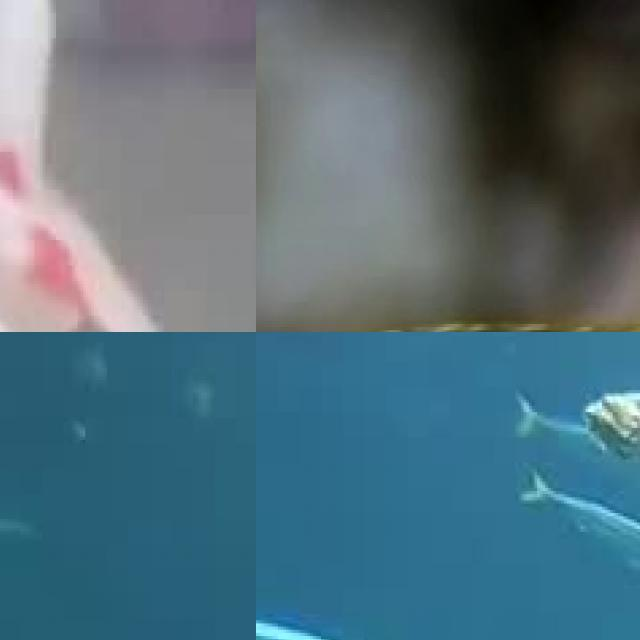fish: (0, 0, 256, 332), (583, 349, 640, 640)
